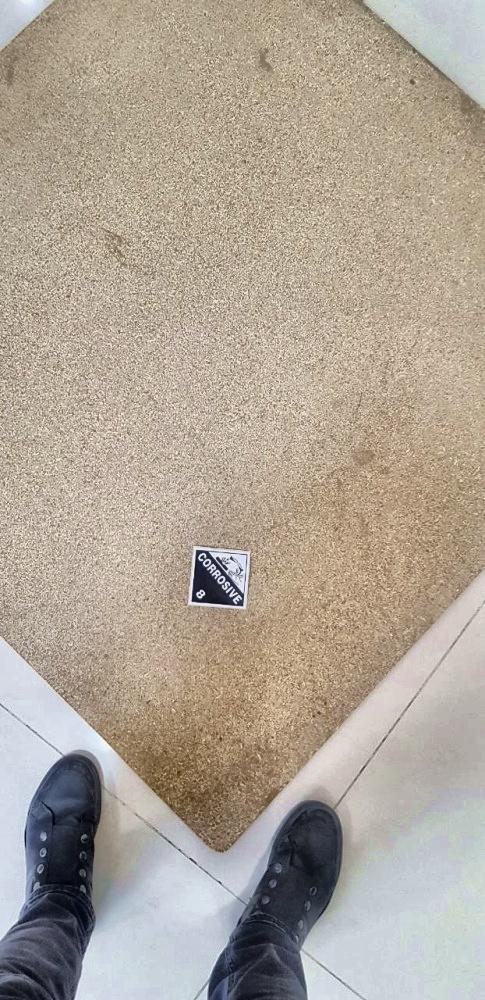corrosive: (188, 545, 252, 607)
